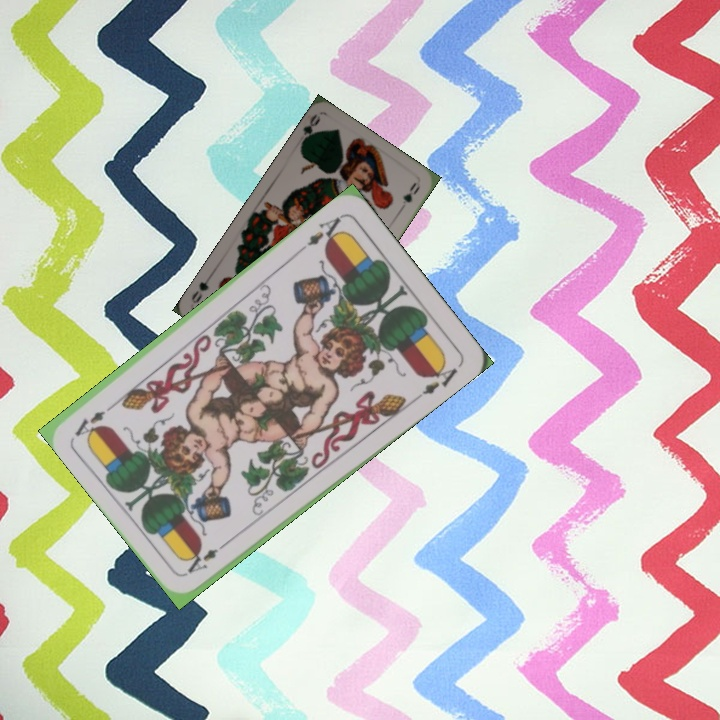EA: (296, 211, 346, 254), (183, 544, 221, 576)
GO: (297, 111, 323, 150)
